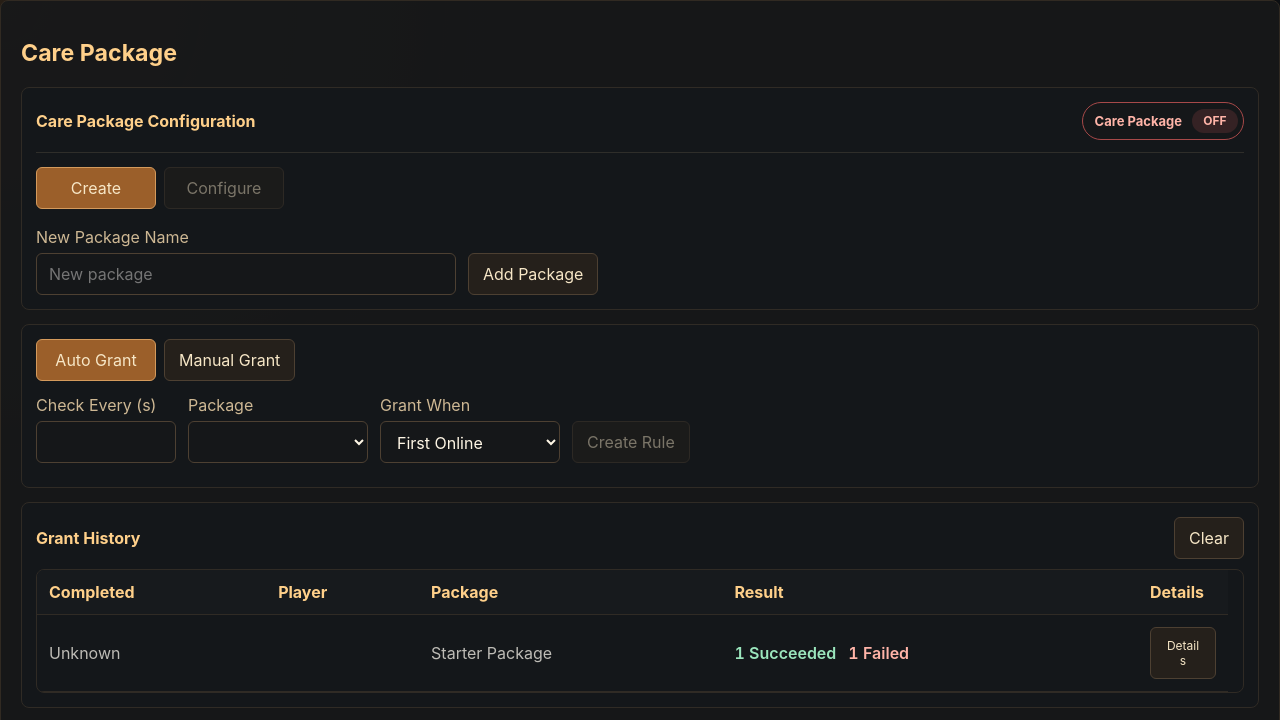
Care Package Grant History › connects the Care Package page to structured item/XP results and actual failure reasons
The width and height of the screenshot is (1280, 720).
Click the button "Details": x=1183, y=653 [1150,627,1216,679]
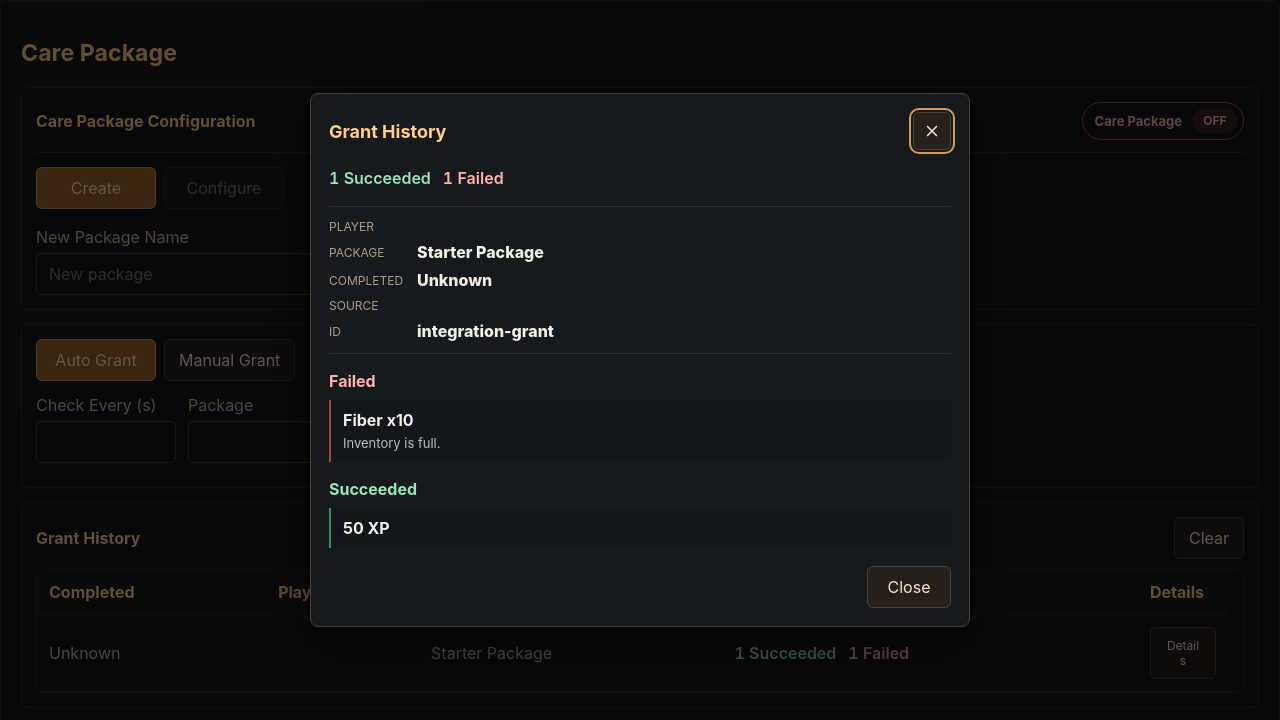
Expected: the text "50 XP" is shown, [343,518,390,538]
Expected: the text "Fiber x10" is shown, [343,410,414,430]
Expected: the text "Inventory is full." is shown, [343,435,440,451]
